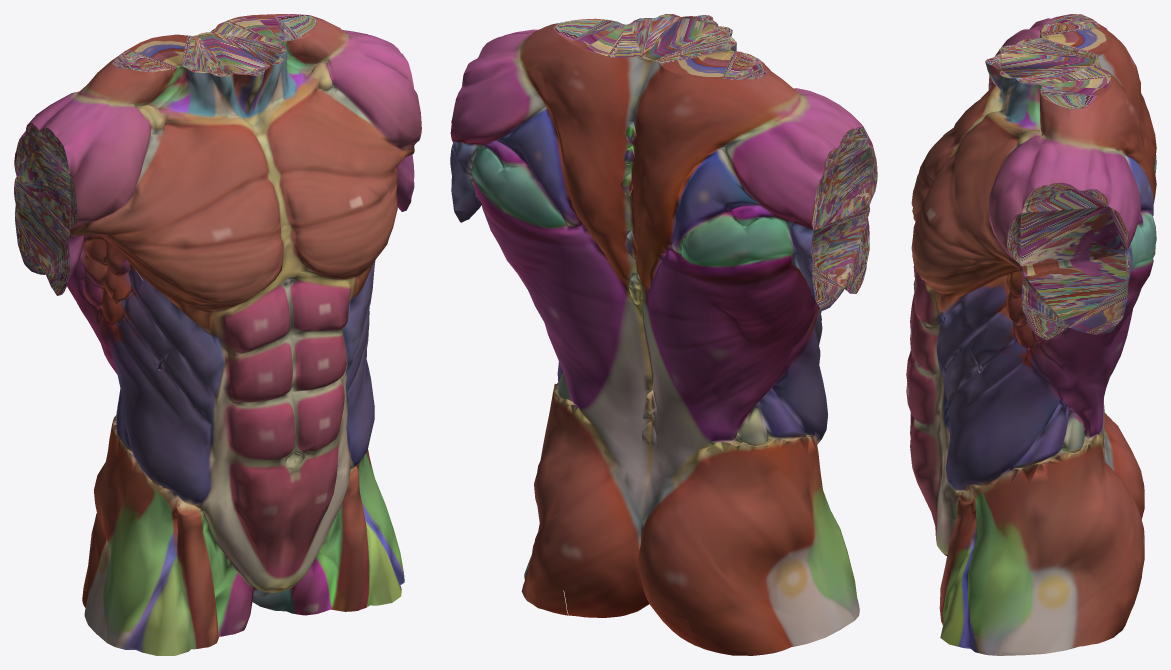
Rendered from derived-anatomy-torso.glb.
3 views of the same model, side by side, from view 1: azimuth 30°, elevation 25°; view 2: azimuth 150°, elevation 25°; view 3: azimuth 270°, elevation 25° (orthographic). The views are drawn at different scales.
Parts seen in each view (by area): view 1: derived-anatomy-torso; view 2: derived-anatomy-torso; view 3: derived-anatomy-torso.
Boxes of the visible parts, bbox=[...] form: derived-anatomy-torso: bbox=[14, 14, 421, 655]; derived-anatomy-torso: bbox=[450, 14, 877, 655]; derived-anatomy-torso: bbox=[906, 14, 1156, 655].
Bounding box in the file's own units: 0.46 × 0.685 × 0.2963.
Materials: 1 (1 with a texture image).
